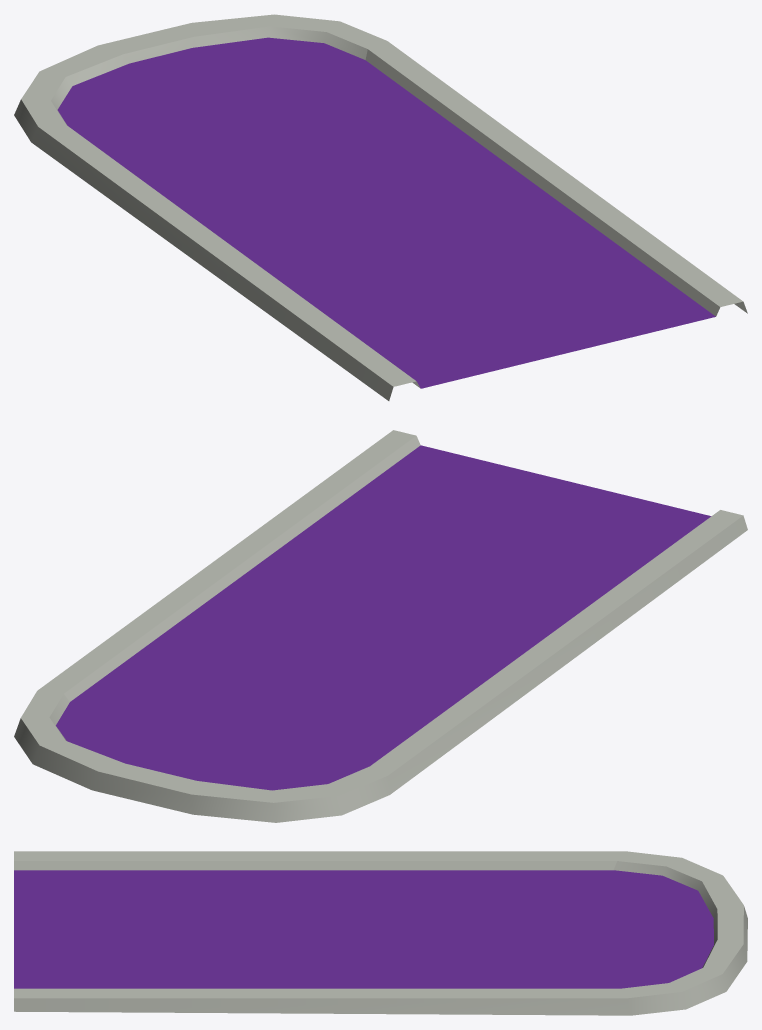
Rendered from ParkRoad_6_A.fbx.
The picture shows the model from 3 angles, top to bottom: view 1: azimuth 30°, elevation 25°; view 2: azimuth 150°, elevation 25°; view 3: azimuth 270°, elevation 25°; orthographic projection. The views are drawn at different scales.
Parts seen in each view (by area): view 1: ParkRoad_6_A; view 2: ParkRoad_6_A; view 3: ParkRoad_6_A.
Boxes of the visible parts, x1,y1,x2,y2 form: ParkRoad_6_A: [14, 14, 747, 400]; ParkRoad_6_A: [14, 430, 747, 822]; ParkRoad_6_A: [14, 851, 747, 1015].
Bounding box in the file's own units: 200 × 9.78 × 411.
